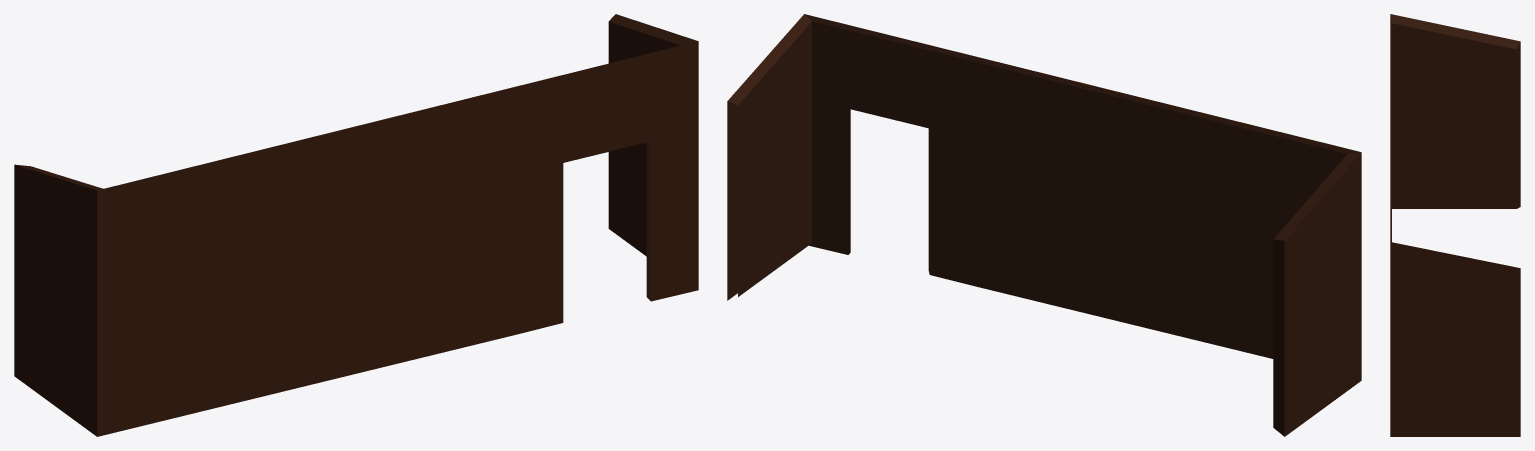
Rendered from CarriageSideroom.fbx.
3 views of the same model, side by side, from view 1: azimuth 30°, elevation 25°; view 2: azimuth 150°, elevation 25°; view 3: azimuth 270°, elevation 25° (orthographic). The views are drawn at different scales.
Visible parts, largest first — view 1: Sideroom; view 2: Sideroom; view 3: Sideroom.
Part boxes in pixels (x1=…): Sideroom: x1=14, y1=14, x2=698, y2=436; Sideroom: x1=727, y1=14, x2=1361, y2=436; Sideroom: x1=1390, y1=14, x2=1520, y2=436.
Size of the model in its own units: 3959 by 1566 by 946.
